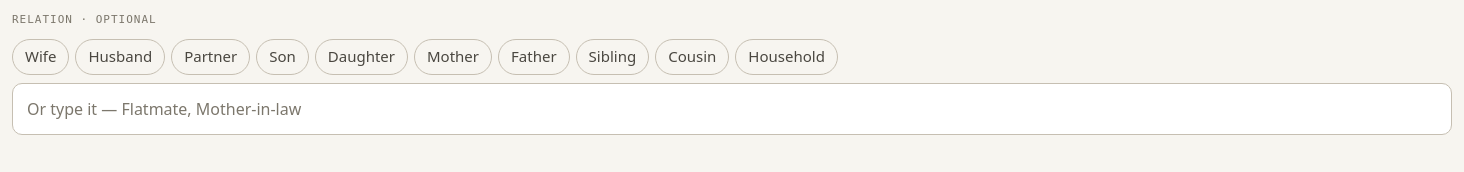
Test: the relation field offers the premade relations › still takes free text, because the list is suggestions and not an enum
Type "Flatmate" into the field named "Relation".
click(732, 108); type("Flatmate")  # box [12,82,1452,134]
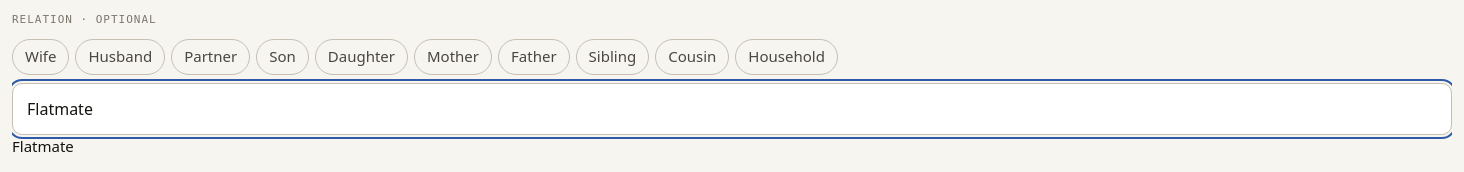
Now the text with test id "value" reads "Flatmate", box [12,136,74,156]
